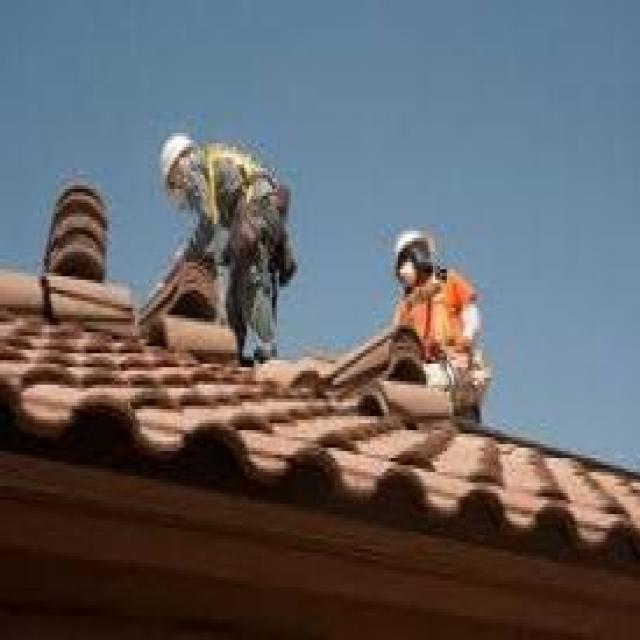Reflective-Jacket: (391, 269, 484, 385)
Safety-Helmet: (151, 122, 207, 203), (384, 214, 445, 276)
